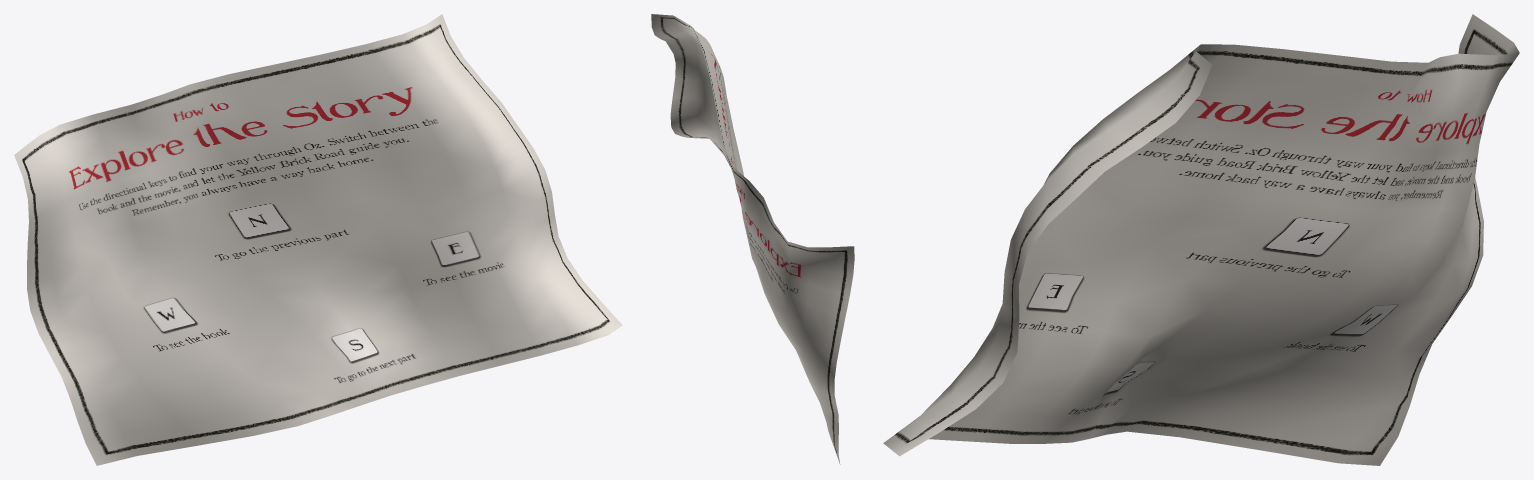
The picture shows the model from 3 angles, left to right: view 1: azimuth 30°, elevation 25°; view 2: azimuth 150°, elevation 25°; view 3: azimuth 270°, elevation 25°; orthographic projection. The views are drawn at different scales.
Visible parts, largest first — view 1: About.001; view 2: About.001; view 3: About.001.
Boxes of the visible parts, left/top/right/bottom form: About.001: left=14, top=14, right=622, bottom=465; About.001: left=651, top=14, right=854, bottom=464; About.001: left=883, top=14, right=1519, bottom=465.
Bounding box in the file's own units: 0.1116 × 0.1124 × 0.1088.
Materials: 1 (1 with a texture image).
